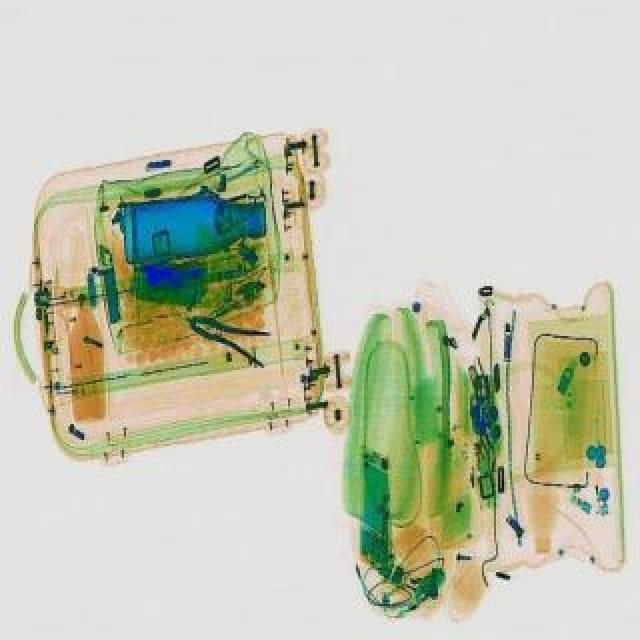wrench: (182, 300, 280, 368)
